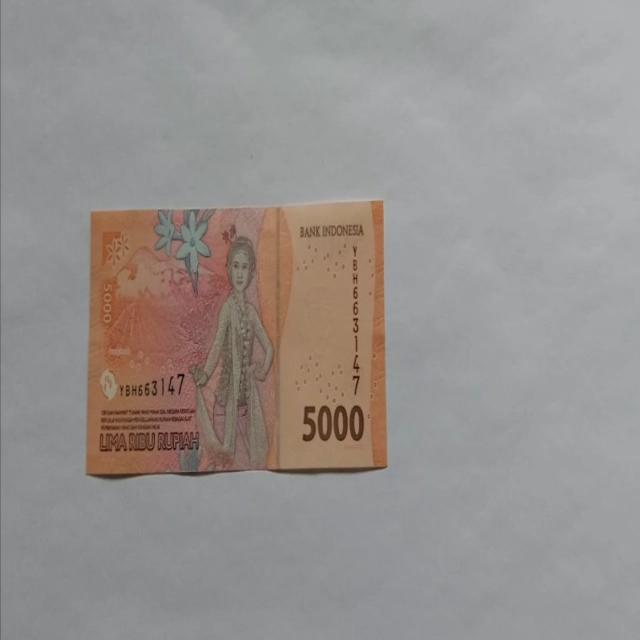lima ribu rupiah: (85, 199, 387, 477), (188, 234, 275, 472)
